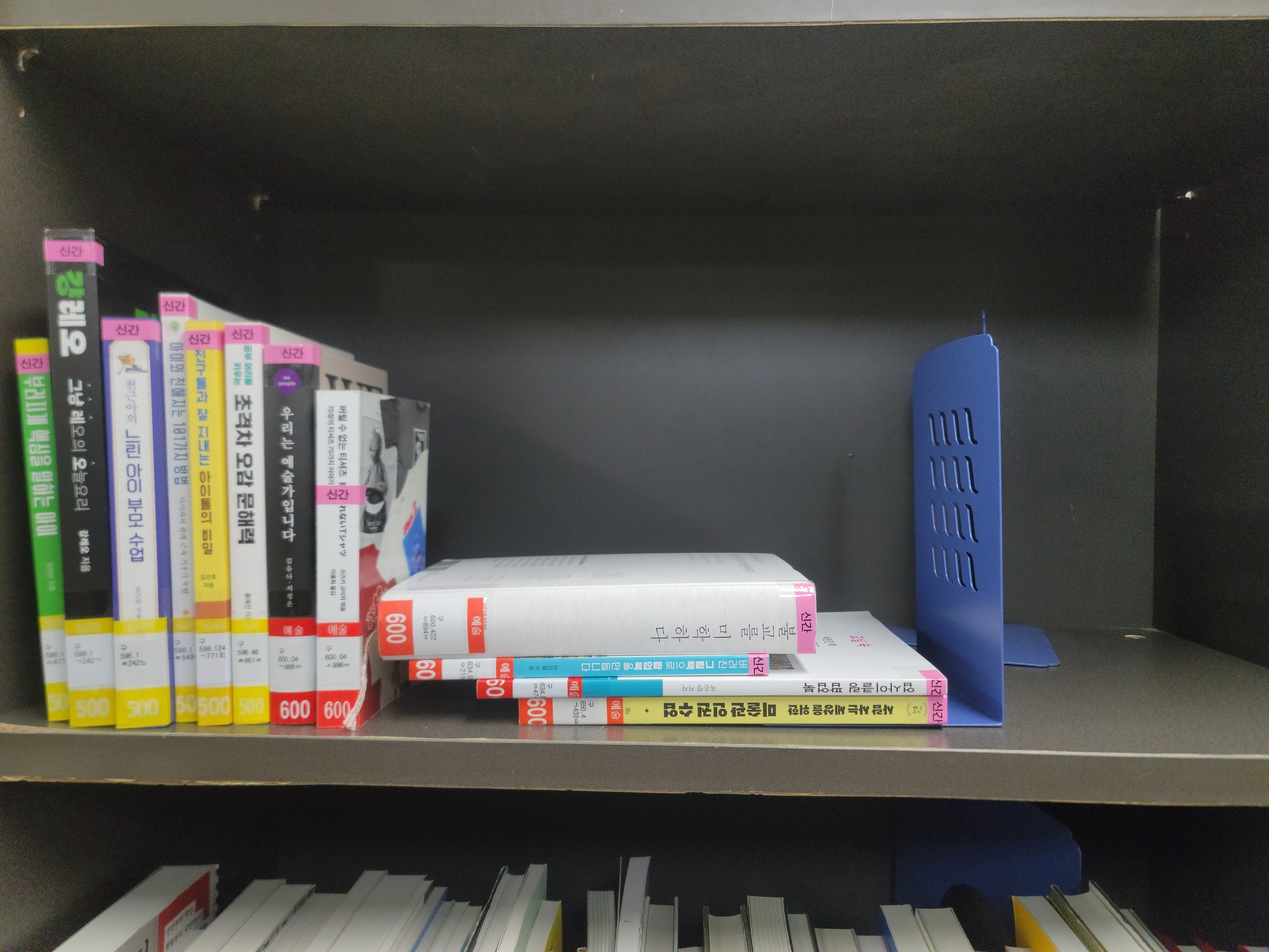book-spine: (42, 230, 117, 726), (378, 577, 817, 657), (99, 317, 172, 730), (12, 338, 71, 723), (262, 343, 315, 724), (220, 323, 270, 726), (187, 323, 232, 725), (157, 294, 198, 723), (315, 390, 362, 729), (522, 698, 945, 725), (478, 678, 943, 698), (412, 654, 769, 680)
